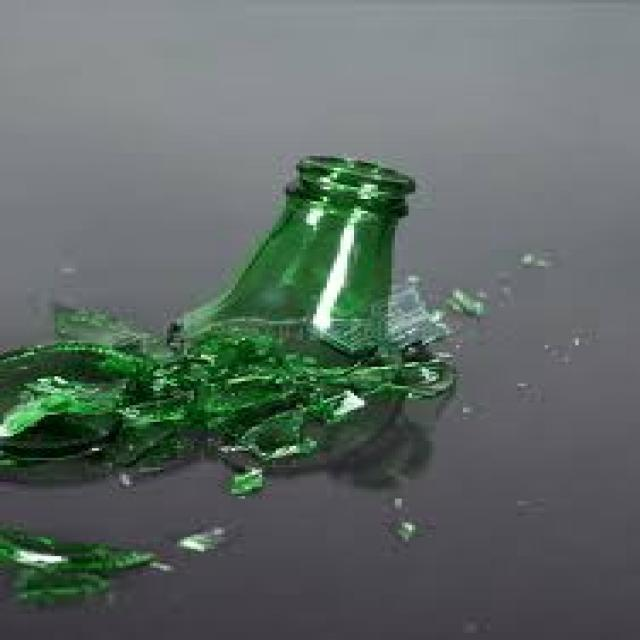Dry: (0, 316, 336, 488), (182, 159, 412, 324), (343, 328, 465, 434), (7, 522, 160, 603), (178, 515, 240, 558)
